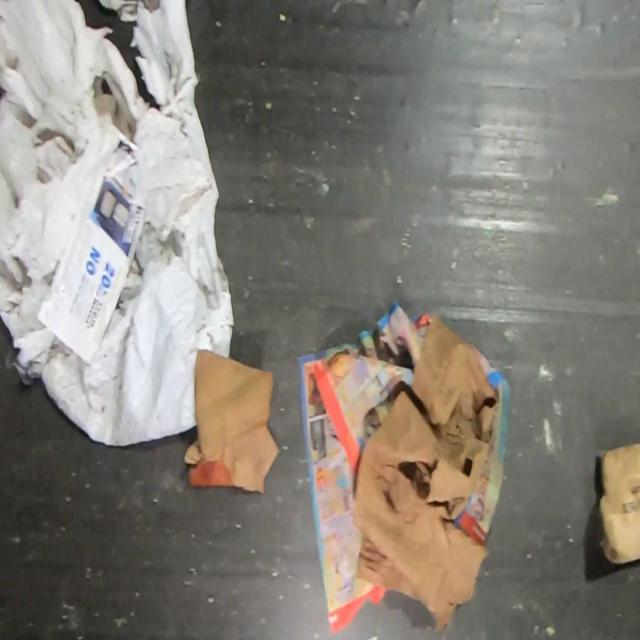cardboard: (351, 314, 499, 634), (182, 349, 280, 494)
rigid_plastic: (597, 428, 639, 565)
soft_plastic: (0, 0, 235, 447)
